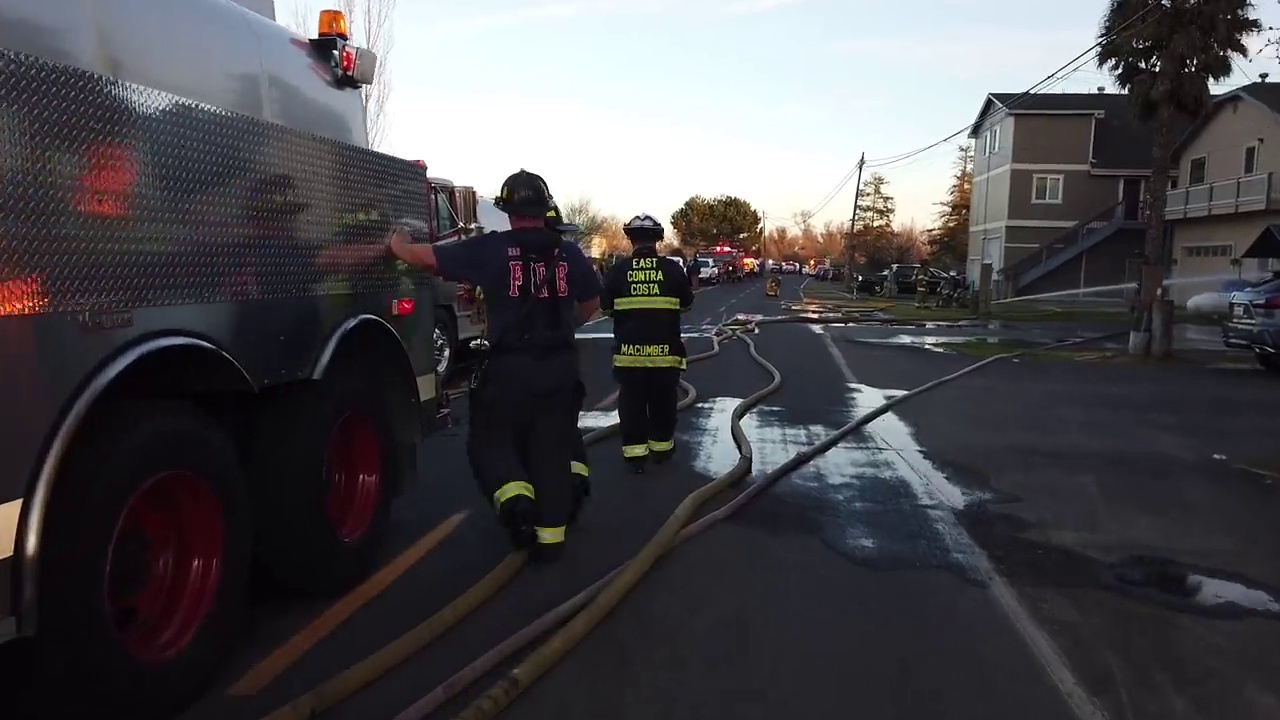fire: (0, 267, 44, 315), (318, 8, 354, 57)
